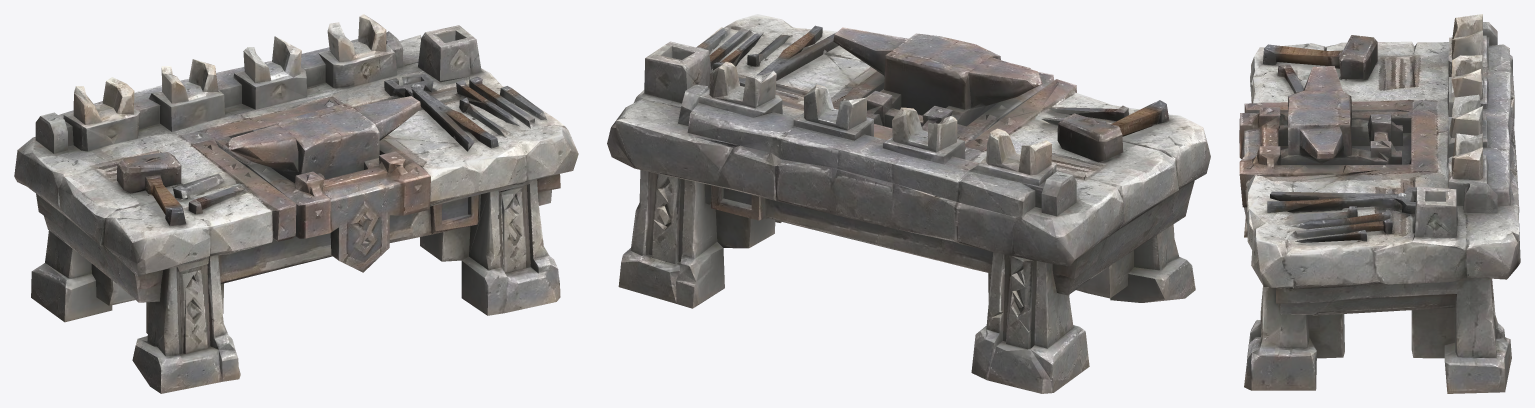
File: hub_station.glb
3 views of the same model, side by side, from view 1: azimuth 30°, elevation 25°; view 2: azimuth 150°, elevation 25°; view 3: azimuth 270°, elevation 25° (orthographic). The views are drawn at different scales.
Parts seen in each view (by area): view 1: body; view 2: body; view 3: body.
Boxes of the visible parts, x1,y1,x2,y2 form: body: [14, 14, 578, 393]; body: [607, 14, 1210, 393]; body: [1239, 14, 1520, 393].
Size of the model in its own units: 3.49 by 1.6 by 1.97.
Materials: 1 (1 with a texture image).
